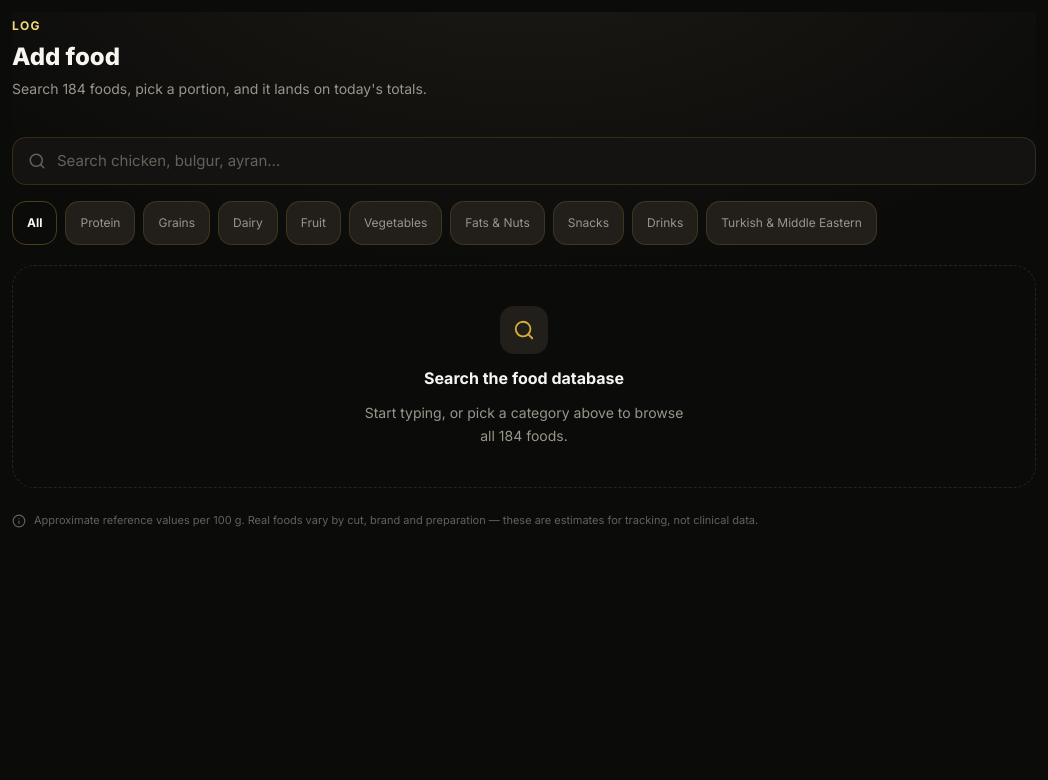
LogScreen — the headline flow: search, portion, add › confirms the addition and returns to search so you can log another
The width and height of the screenshot is (1048, 780).
In the search field named "search foods": (524, 161) [12, 137, 1036, 185], type "banana"
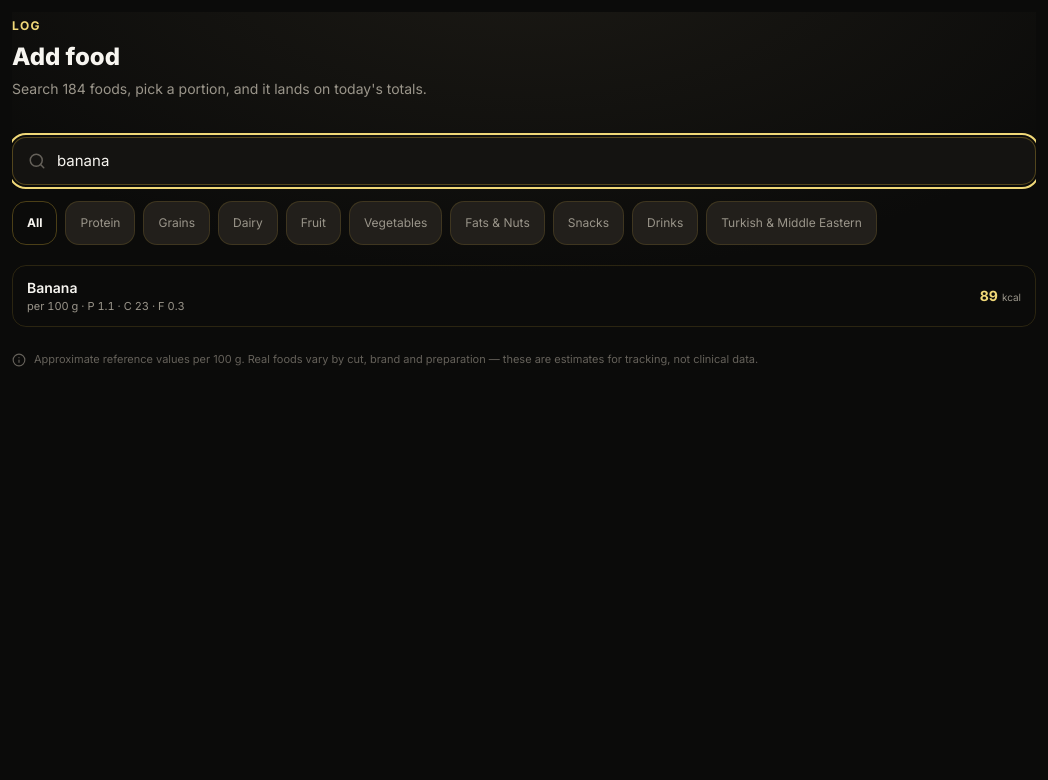
Click the button "Banana per 100 g · P 1.1 · C 23 · F 0.3 89kcal": click(52, 287) [12, 265, 1036, 327]
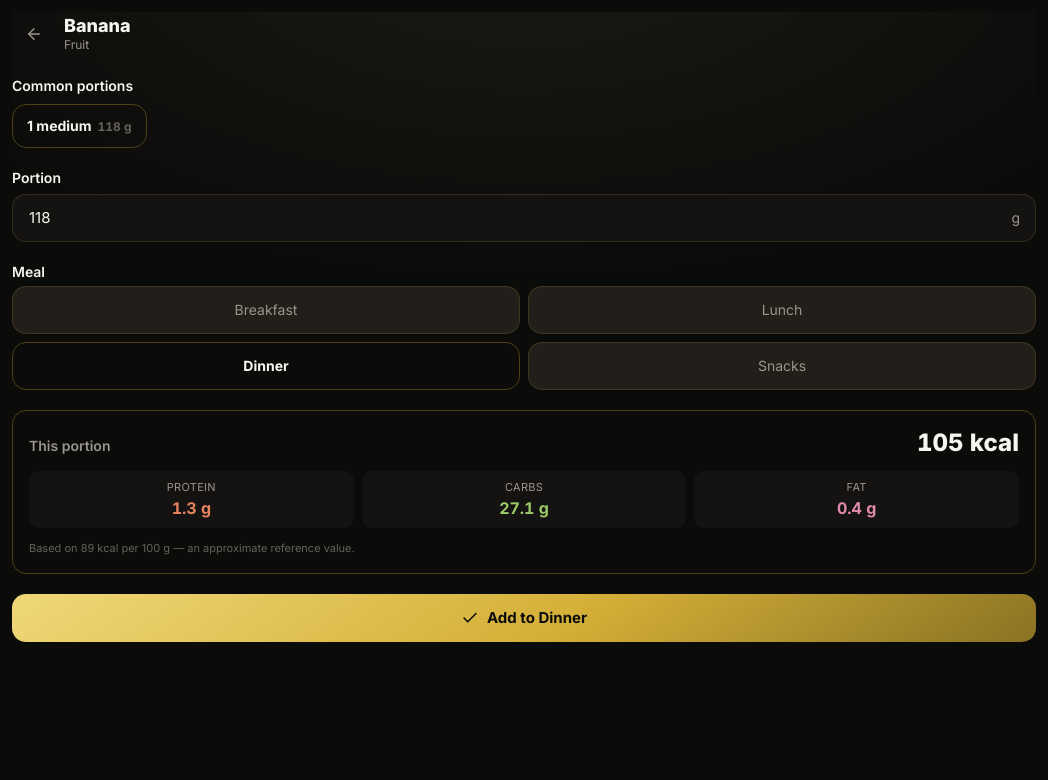
Click the button "Add to Dinner": click(524, 618) [12, 594, 1036, 642]
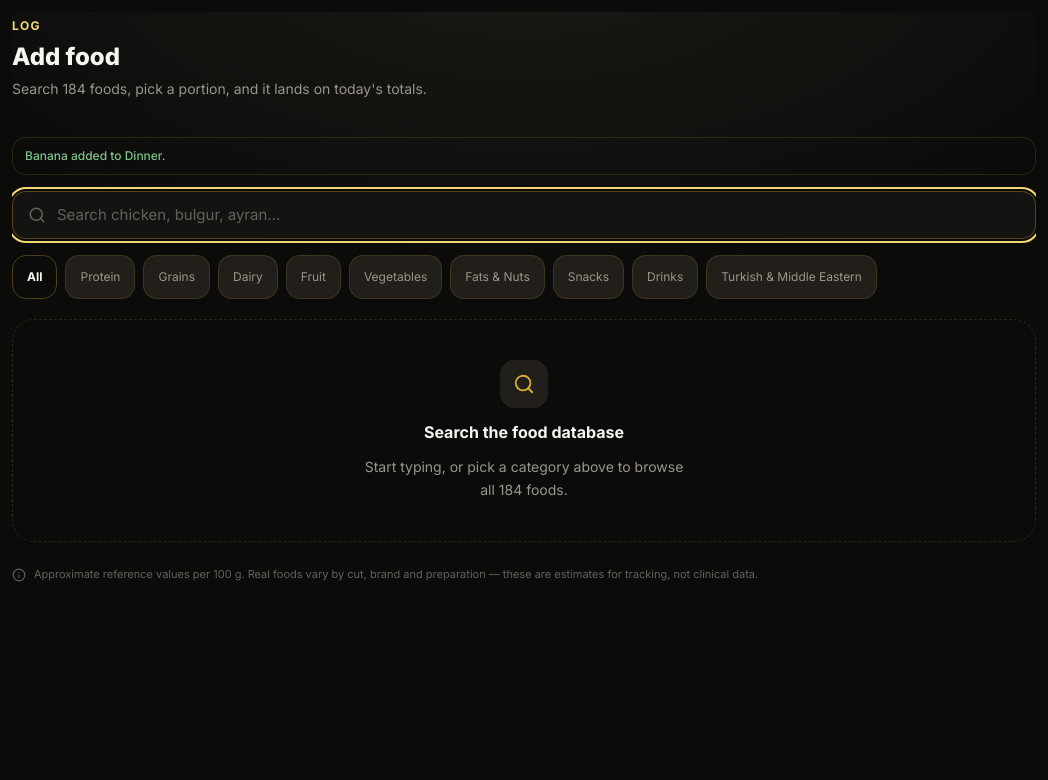
Expected: the text "Banana added to Dinner." is shown, [12, 137, 1036, 175]
Expected: the search field named "search foods" is shown, [12, 191, 1036, 239]
